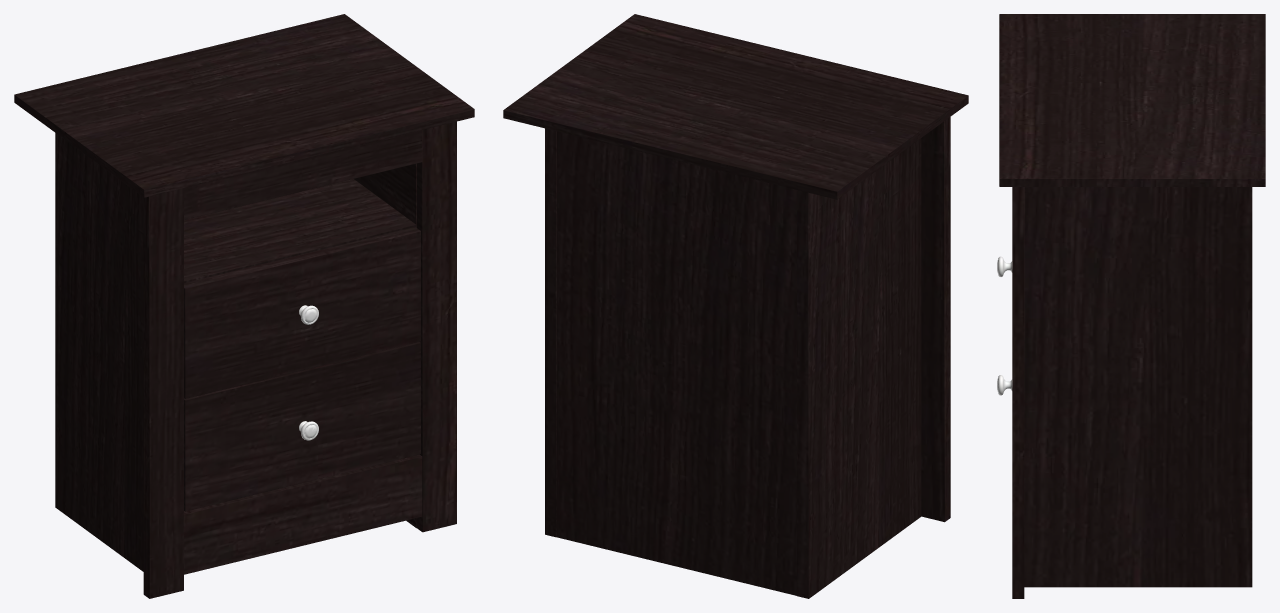
Rendered from B07Q2MHLH1.glb.
3 renders of one model, left to right at view 1: azimuth 30°, elevation 25°; view 2: azimuth 150°, elevation 25°; view 3: azimuth 270°, elevation 25°, orthographic. The views are drawn at different scales.
Visible parts, largest first — view 1: B07Q2MHLH1; view 2: B07Q2MHLH1; view 3: B07Q2MHLH1.
Part boxes in pixels (x1,y1,x2,y2): B07Q2MHLH1: (14, 14, 474, 598); B07Q2MHLH1: (503, 14, 968, 598); B07Q2MHLH1: (997, 14, 1265, 598).
Size of the model in its own units: 0.5905 by 0.7112 by 0.4064.
Materials: 1 (1 with a texture image).
